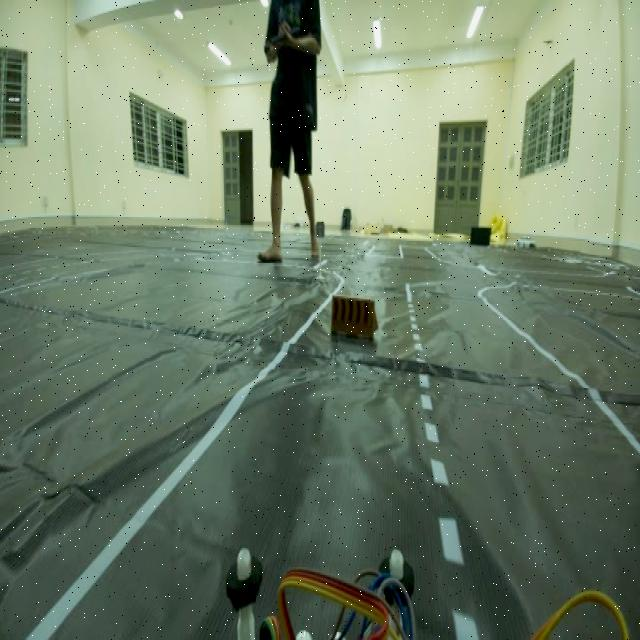roadblock: (325, 280, 384, 358)
